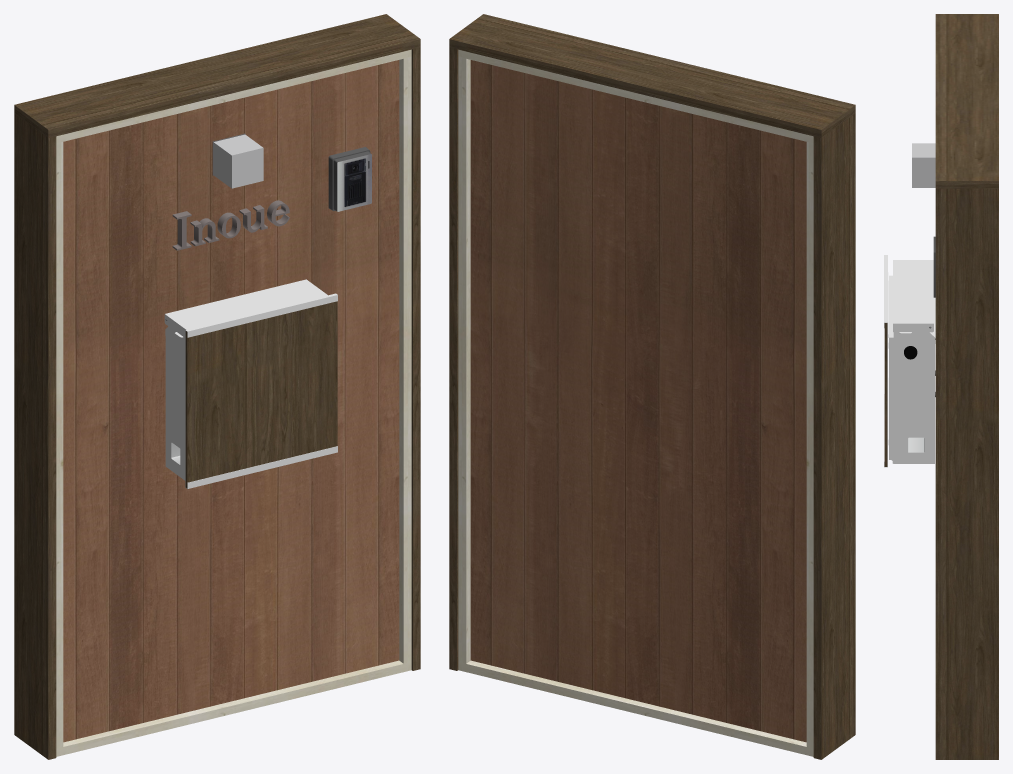
The model's file is eabmonchustyles1_jara.fbx.
The picture shows the model from 3 angles, left to right: view 1: azimuth 30°, elevation 25°; view 2: azimuth 150°, elevation 25°; view 3: azimuth 270°, elevation 25°; orthographic projection. The views are drawn at different scales.
Parts seen in each view (by area): view 1: eabmonchustyles1-jara; view 2: eabmonchustyles1-jara; view 3: eabmonchustyles1-jara.
Part boxes in pixels (x1,y1,x2,y2): eabmonchustyles1-jara: (14, 14, 420, 759); eabmonchustyles1-jara: (449, 14, 855, 759); eabmonchustyles1-jara: (884, 14, 998, 759).
Size of the model in its own units: 94 by 152 by 27.3.
13 materials, 4 textured.
